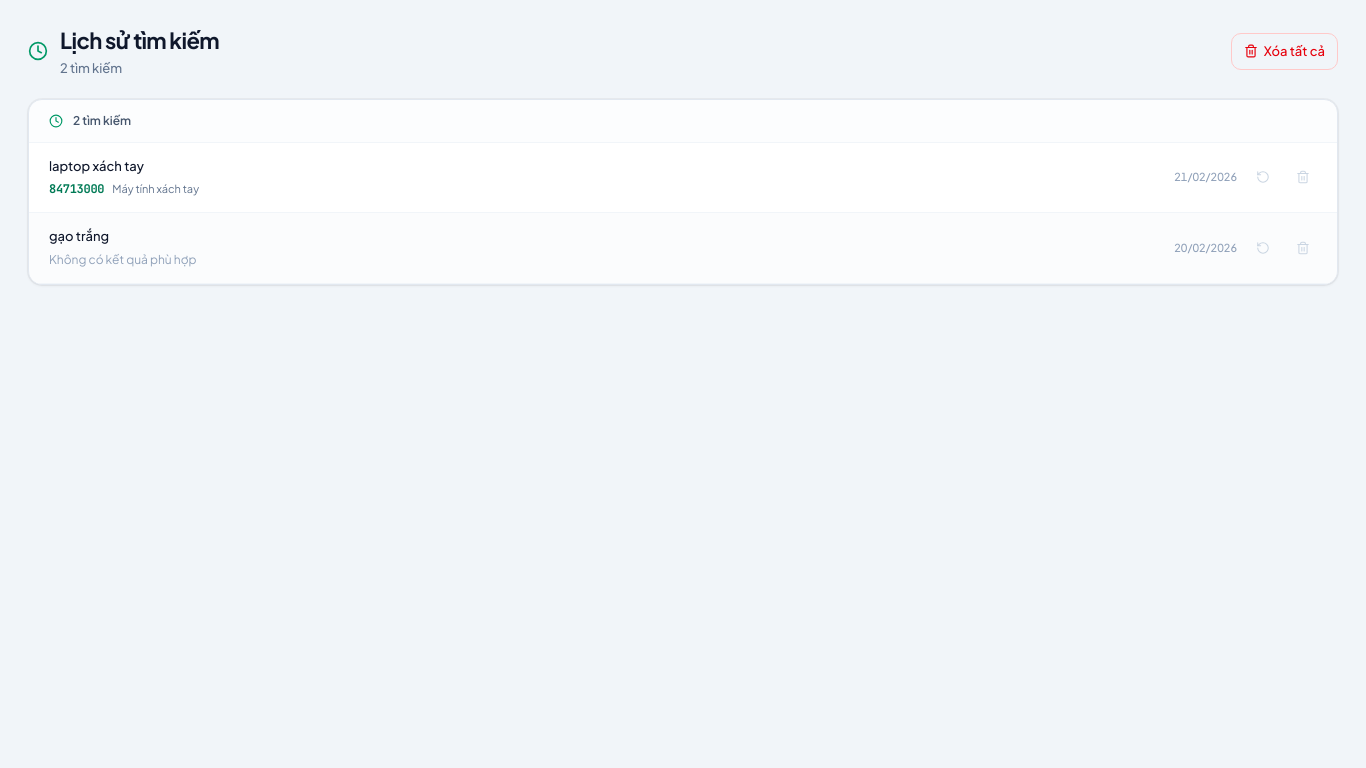
HistoryPage › clicking 'Xóa tất cả' opens confirmation dialog
Click the button "Xóa tất cả".
click(1284, 51)  # box [1231,32,1338,70]
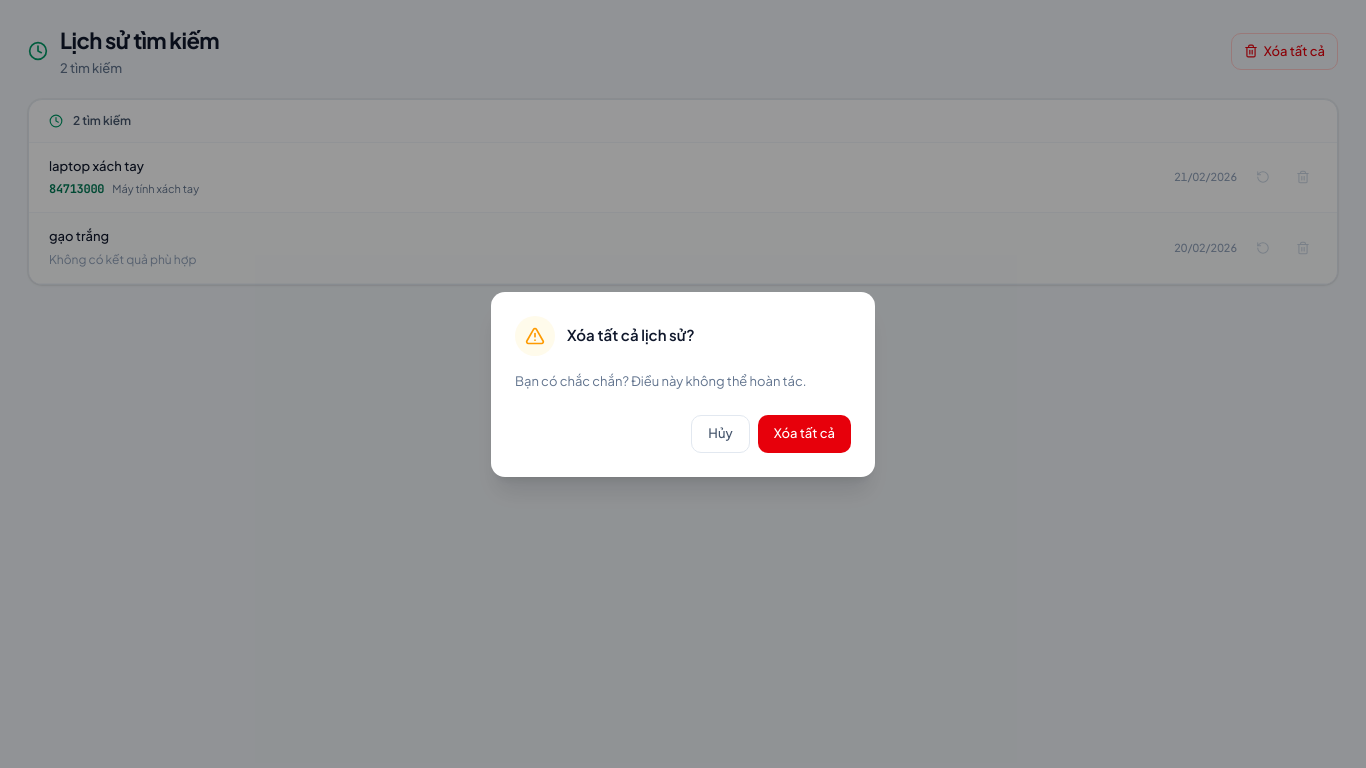
Expected: the heading "Xóa tất cả lịch sử?" is shown, [567,324,695,347]
Expected: the text "Bạn có chắc chắn? Điều này không thể hoàn tác." is shown, [515,372,851,391]
